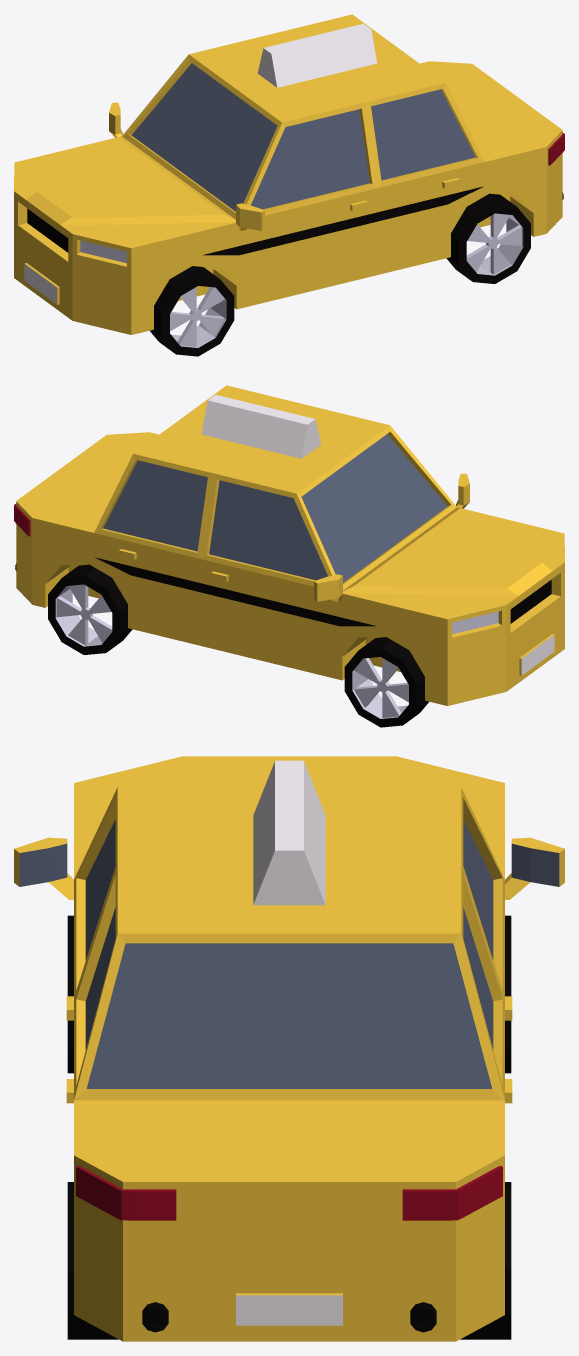
File: texi.glb
3 views of the same model, one above another, from view 1: azimuth 30°, elevation 25°; view 2: azimuth 150°, elevation 25°; view 3: azimuth 270°, elevation 25° (orthographic). The views are drawn at different scales.
Parts seen in each view (by area): view 1: chassis, blwheel, flwheel; view 2: chassis, brwheel, frwheel; view 3: chassis, brwheel, blwheel, flwheel, frwheel.
Boxes of the visible parts, x1,y1,x2,y2 form: chassis: (14, 14, 564, 334); blwheel: (446, 193, 530, 283); flwheel: (150, 266, 234, 356); chassis: (14, 385, 564, 705); brwheel: (48, 564, 132, 654); frwheel: (344, 637, 428, 727); chassis: (14, 756, 564, 1341); brwheel: (460, 1182, 511, 1339); blwheel: (67, 1182, 118, 1339); flwheel: (67, 915, 73, 1073); frwheel: (505, 915, 511, 1073).
Size of the model in its own units: 5.23 by 2.38 by 2.81.
